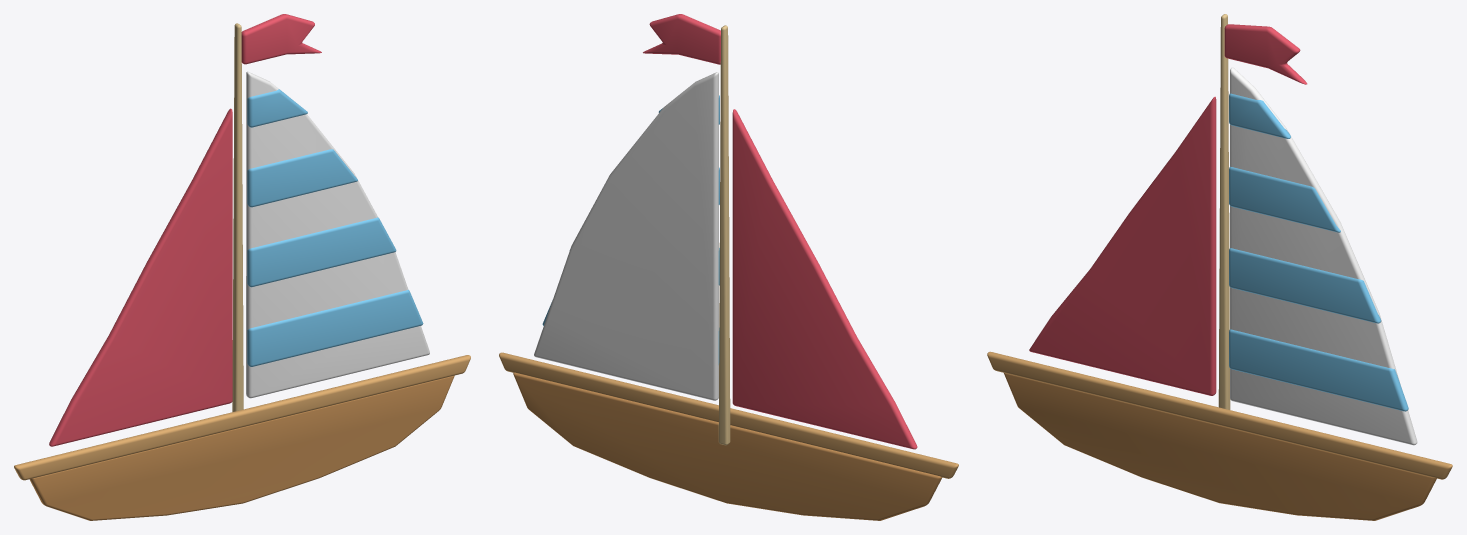
Rendered from Boat.glb.
The picture shows the model from 3 angles, left to right: view 1: azimuth 30°, elevation 25°; view 2: azimuth 150°, elevation 25°; view 3: azimuth 330°, elevation 25°; orthographic projection.
Parts seen in each view (by area): view 1: Boat_Left_Sail, Boat_Hull, Boat_Right_Sail_Base, Boat_Hull_Rim, Boat_Stripe_1, Boat_Stripe_2, Boat_Stripe_3, Boat_Mast, Boat_Flag, Boat_Stripe_4; view 2: Boat_Right_Sail_Base, Boat_Left_Sail, Boat_Hull, Boat_Hull_Rim, Boat_Mast, Boat_Flag; view 3: Boat_Left_Sail, Boat_Hull, Boat_Right_Sail_Base, Boat_Hull_Rim, Boat_Stripe_1, Boat_Stripe_2, Boat_Stripe_3, Boat_Mast, Boat_Flag, Boat_Stripe_4.
Part boxes in pixels (x1,y1,x2,y2): Boat_Left_Sail: [49, 108, 232, 446]; Boat_Hull: [29, 375, 454, 520]; Boat_Right_Sail_Base: [246, 71, 429, 398]; Boat_Hull_Rim: [14, 355, 470, 480]; Boat_Stripe_1: [247, 289, 423, 366]; Boat_Stripe_2: [247, 217, 396, 287]; Boat_Stripe_3: [247, 149, 357, 207]; Boat_Mast: [232, 23, 243, 411]; Boat_Flag: [241, 14, 321, 64]; Boat_Stripe_4: [247, 89, 307, 127]; Boat_Right_Sail_Base: [534, 72, 718, 400]; Boat_Left_Sail: [732, 109, 917, 449]; Boat_Hull: [513, 372, 942, 520]; Boat_Hull_Rim: [499, 352, 958, 478]; Boat_Mast: [718, 25, 730, 445]; Boat_Flag: [643, 14, 720, 64]; Boat_Left_Sail: [1029, 96, 1216, 395]; Boat_Hull: [1004, 373, 1436, 520]; Boat_Right_Sail_Base: [1230, 67, 1417, 445]; Boat_Hull_Rim: [987, 351, 1452, 479]; Boat_Stripe_1: [1229, 329, 1408, 411]; Boat_Stripe_2: [1229, 248, 1381, 323]; Boat_Stripe_3: [1229, 166, 1340, 232]; Boat_Mast: [1218, 14, 1230, 409]; Boat_Flag: [1224, 24, 1307, 84]; Boat_Stripe_4: [1229, 93, 1290, 138].
Size of the model in its own units: 5.97 by 5.97 by 0.2.
